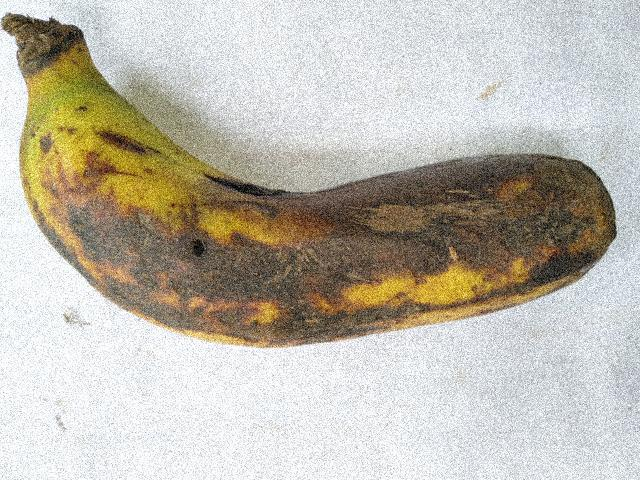rotten: (9, 121, 631, 350)
